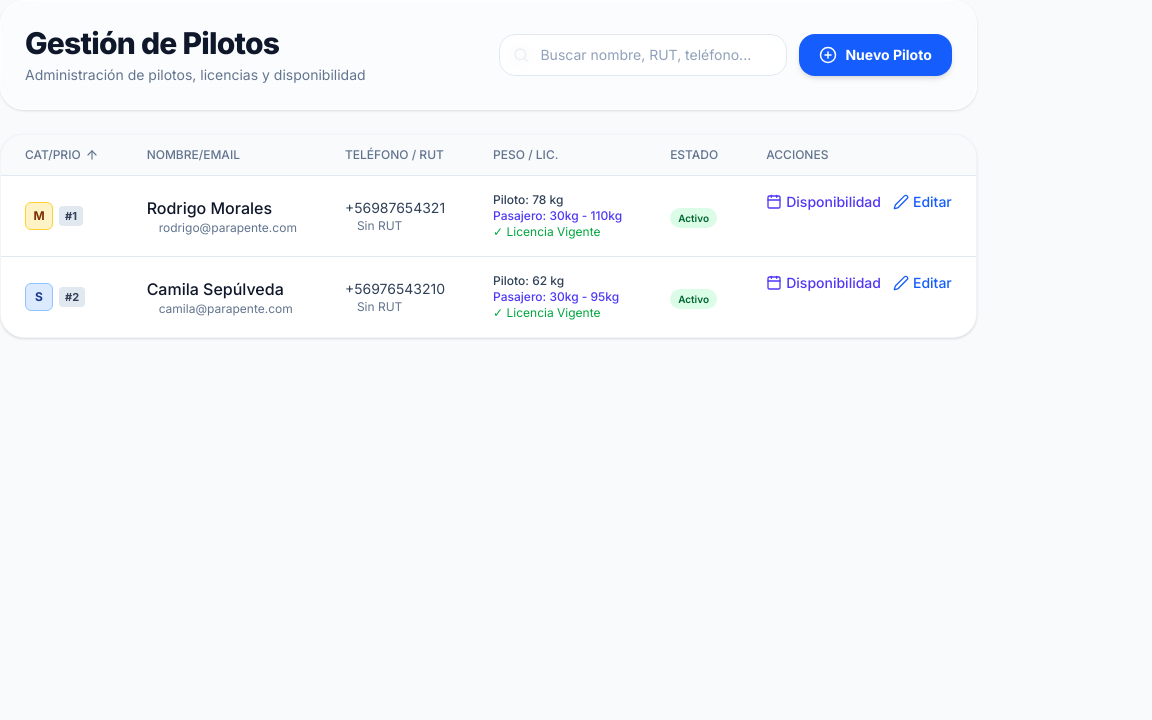
Página de Pilotos (/pilotos) - Pruebas Unitarias y de Componente › 2. Debe abrir el modal de creación al presionar "Nuevo Piloto"
Click the button "Nuevo Piloto": [876, 55] box [799,34,952,76]
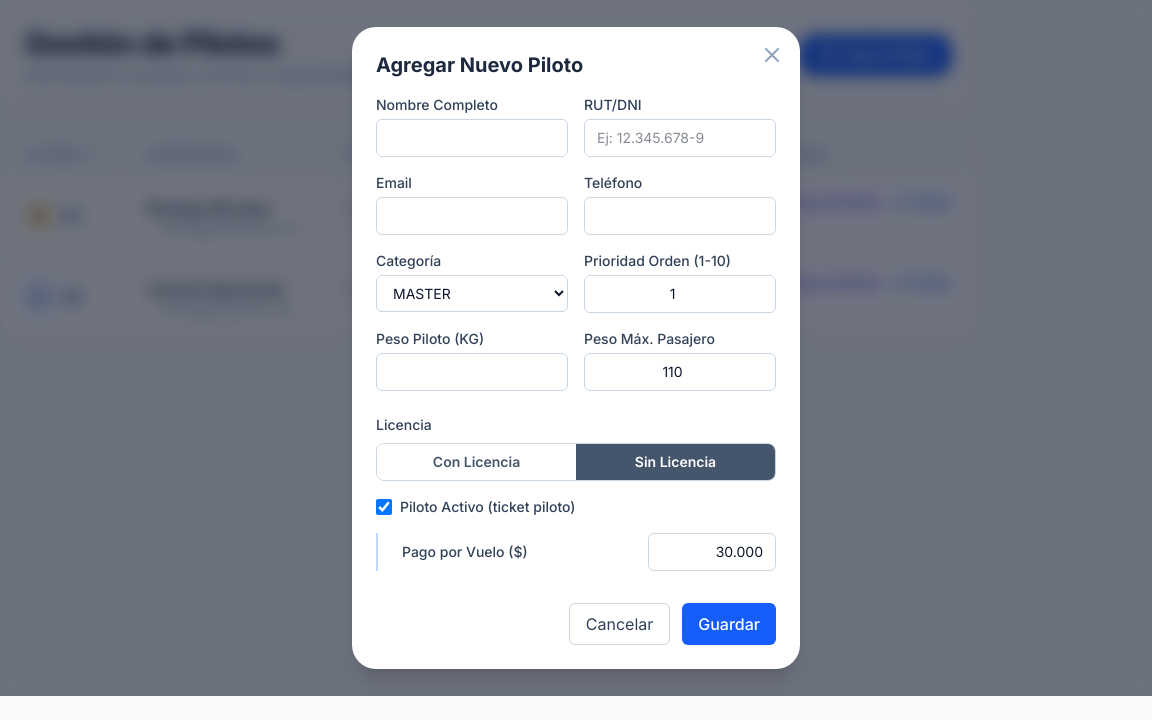
Check: the text "Categoría" is shown, box [376,252,441,269]
Check: the text "Prioridad Orden (1-10)" is shown, box [584,252,731,269]
